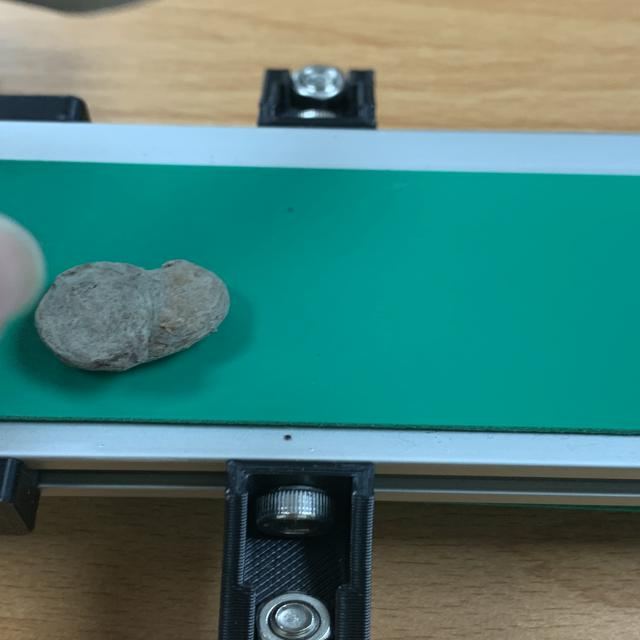Agglomerated_cocoabeans: (0, 214, 319, 429)
